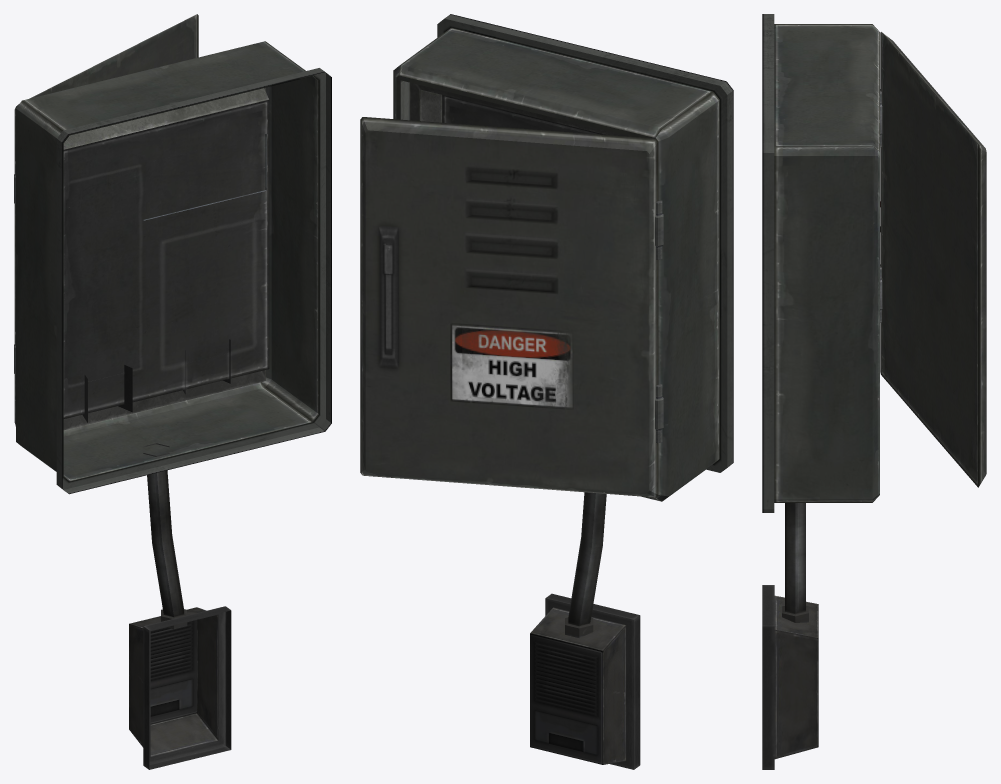
The model's file is Fuse Switch.fbx.
3 views of the same model, side by side, from view 1: azimuth 30°, elevation 25°; view 2: azimuth 150°, elevation 25°; view 3: azimuth 270°, elevation 25° (orthographic). The views are drawn at different scales.
Parts seen in each view (by area): view 1: FUSE_SWITCH; view 2: FUSE_SWITCH; view 3: FUSE_SWITCH.
Boxes of the visible parts, bbox=[...] form: FUSE_SWITCH: bbox=[14, 14, 331, 769]; FUSE_SWITCH: bbox=[360, 14, 733, 769]; FUSE_SWITCH: bbox=[762, 14, 986, 769].
Bounding box in the file's own units: 0.5224 × 1.21 × 0.366.
Materials: 1 (1 with a texture image).
